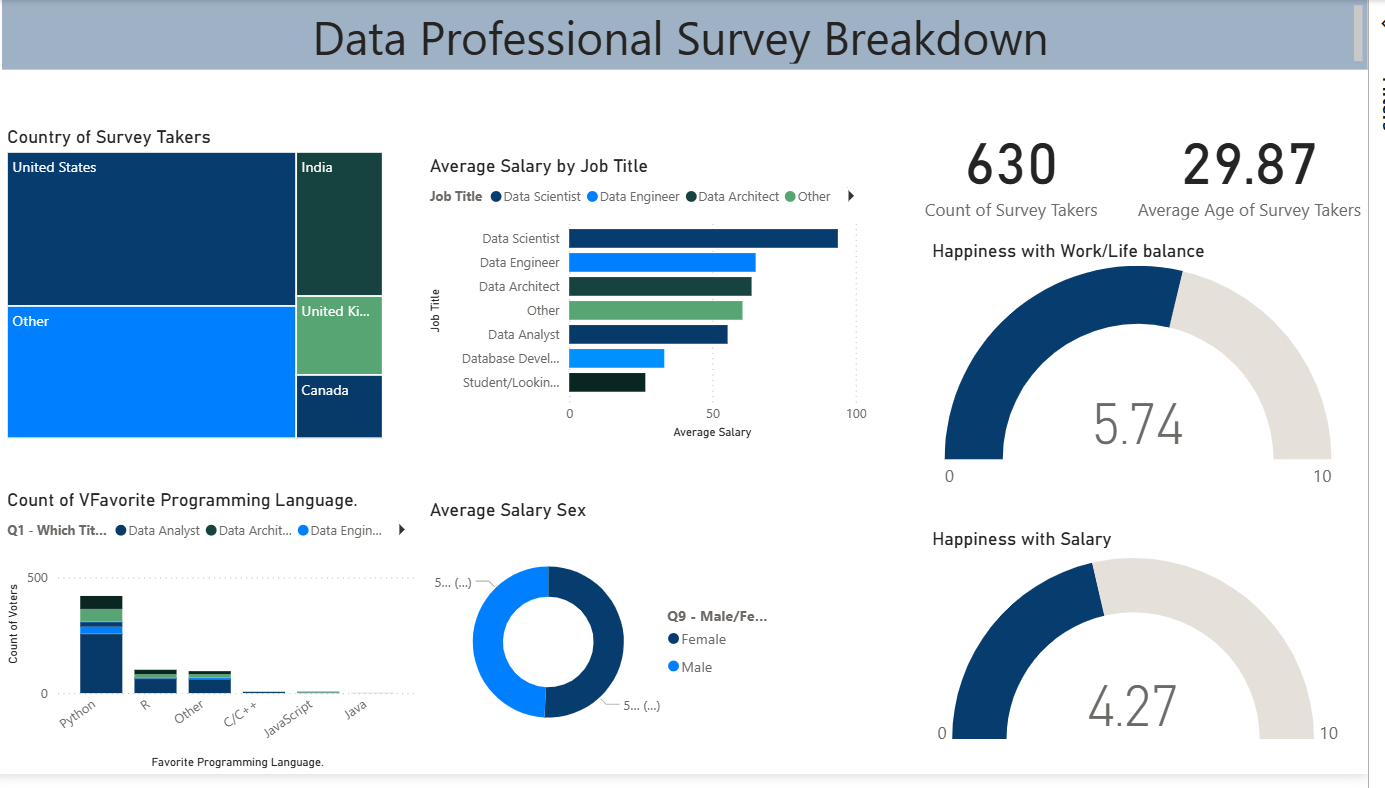

The page's visual inventory and layout, read from the dashboard file:
{"tool":"powerbi","page":{"name":"Page 1","canvas":[1280,720],"ordinal":0},"visuals":[{"type":"textbox","box":[9.6,0,1270.7,64.5],"z":0},{"type":"card","fields":{"Values":["Count(Data Professional Survey.Unique ID)"]},"box":[854.9,64.5,186.6,159.2],"z":1000},{"type":"card","fields":{"Values":["Avg(Data Professional Survey.Q10 - Current Age)"]},"box":[1059.4,64.5,220.9,172.9],"z":2000},{"type":"barChart","title":"Average Salary by Job Title","fields":{"Category":["Data Professional Survey.Q1 - Which Title Best Fits your Current Role?.1"],"Y":["Avg(Data Professional Survey.Average Salary)"],"Series":["Data Professional Survey.Q1 - Which Title Best Fits your Current Role?.1"]},"box":[402.8,63.4,415.5,349.3],"z":3000},{"type":"columnChart","title":"Count of VFavorite Programming Language.","fields":{"Category":["Data Professional Survey.Q5 - Favorite Programming Language.1"],"Y":["CountNonNull(Data Professional Survey.Unique ID)"],"Series":["Data Professional Survey.Q1 - Which Title Best Fits your Current Role?.1"]},"box":[9.9,412.7,390.1,307],"z":4000},{"type":"treemap","title":"Country of Survey Takers","fields":{"Group":["Data Professional Survey.Q11 - Which Country do you live in?.1"],"Values":["CountNonNull(Data Professional Survey.Q11 - Which Country do you live in?.1)"]},"box":[9.6,64.5,359.5,295],"z":5000},{"type":"gauge","title":"Happiness with Work/Life balance","fields":{"Y":["Avg(Data Professional Survey.Q6 - How Happy are you in your Current Position with the following? (Work/Life Balance))"],"MinValue":["Min(Data Professional Survey.Q6 - How Happy are you in your Current Position with the following? (Work/Life Balance))1"],"MaxValue":["Max(Data Professional Survey.Q6 - How Happy are you in your Current Position with the following? (Work/Life Balance))2"]},"box":[854.9,223.7,392.5,240.1],"z":6000},{"type":"gauge","title":"Happiness with Salary","fields":{"Y":["Avg(Data Professional Survey.Q6 - How Happy are you in your Current Position with the following? (Salary))"],"MinValue":["Min(Data Professional Survey.Q6 - How Happy are you in your Current Position with the following? (Salary))"],"MaxValue":["Max(Data Professional Survey.Q6 - How Happy are you in your Current Position with the following? (Salary))"]},"box":[870,491.3,392.5,211.3],"z":7000},{"type":"donutChart","title":"Average Salary Sex","fields":{"Category":["Data Professional Survey.Q9 - Male/Female?"],"Y":["Avg(Data Professional Survey.Average Salary)"]},"box":[394.4,435.2,401.4,284.5],"z":8000}]}

Visuals, with their boxes in screenshot pixels (x1, y1, x2, y2), scaled from the page's 1280x720 canvas onto the 1385x788 screenshot:
textbox: x1=10 y1=0 x2=1384 y2=71
card - Count(Data Professional Survey.Unique ID): x1=925 y1=71 x2=1127 y2=245
card - Avg(Data Professional Survey.Q10 - Current Age): x1=1146 y1=71 x2=1384 y2=260
"Average Salary by Job Title" barChart: x1=436 y1=69 x2=885 y2=452
"Count of VFavorite Programming Language." columnChart: x1=11 y1=452 x2=433 y2=787
"Country of Survey Takers" treemap: x1=10 y1=71 x2=399 y2=393
"Happiness with Work/Life balance" gauge: x1=925 y1=245 x2=1350 y2=508
"Happiness with Salary" gauge: x1=941 y1=538 x2=1366 y2=769
"Average Salary Sex" donutChart: x1=427 y1=476 x2=861 y2=787
